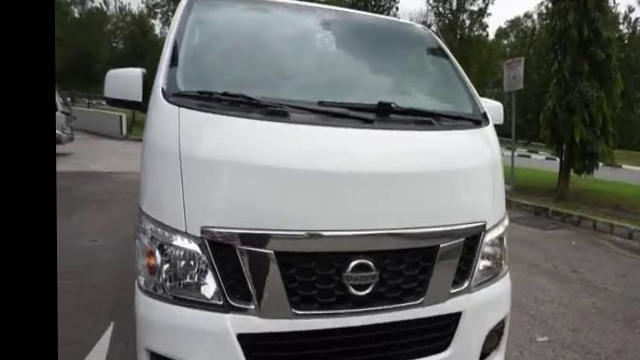van: (129, 0, 509, 360)
